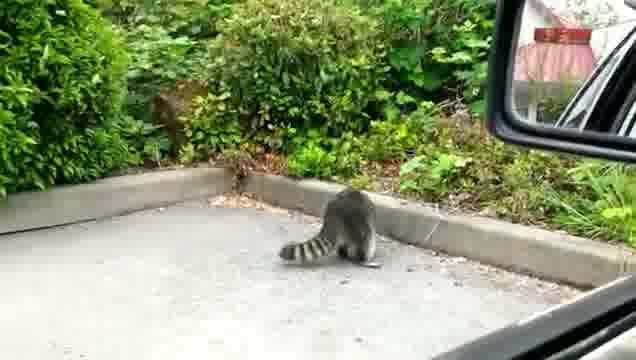raccoon: (278, 188, 382, 273)
